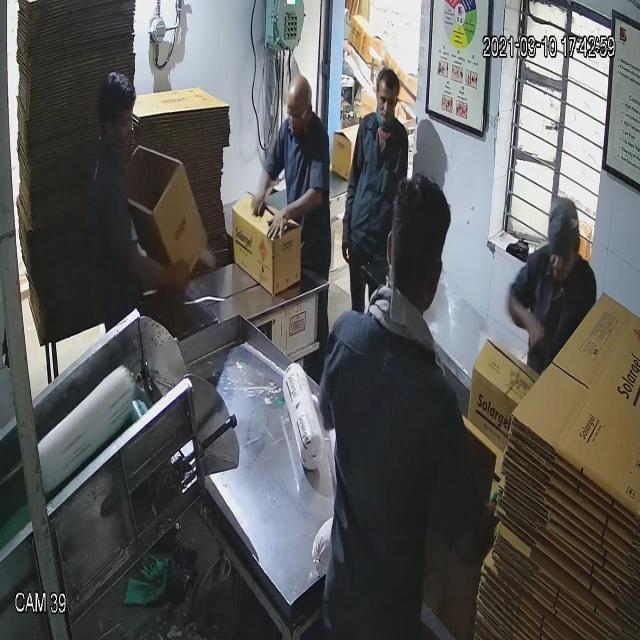No_Gloves: (44, 69, 526, 321)
